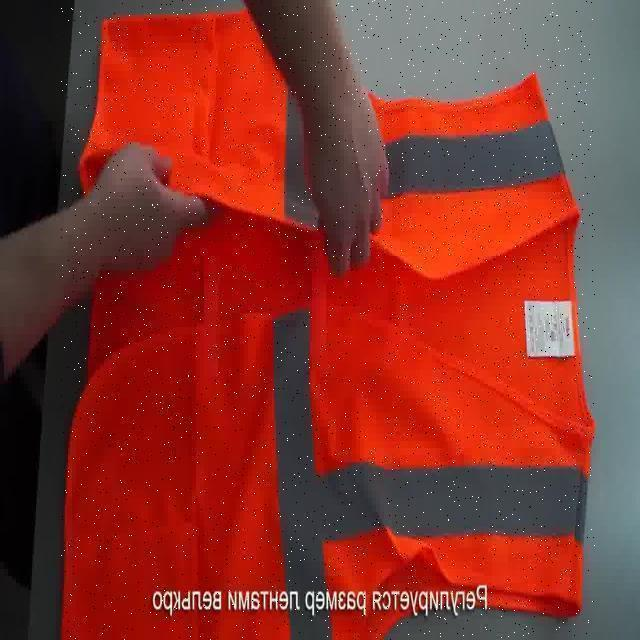safety_vest: (61, 0, 595, 640)
